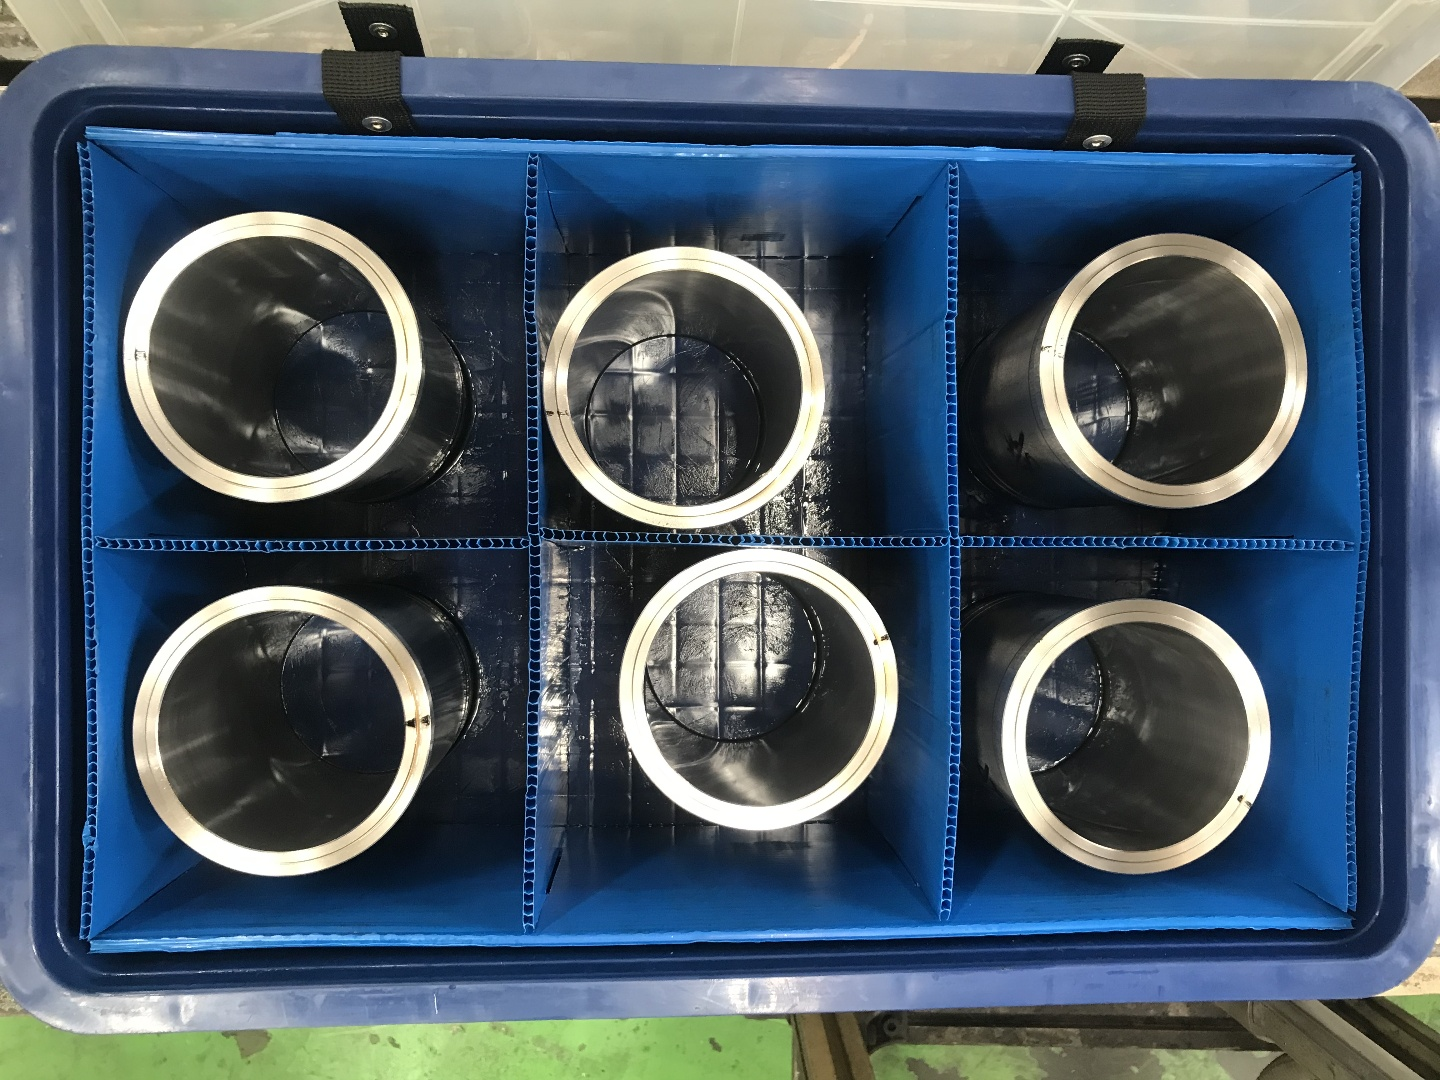cylinder: (119, 205, 426, 509), (129, 584, 437, 880), (613, 543, 903, 837), (539, 241, 830, 531), (994, 594, 1278, 880), (1034, 227, 1311, 516)
